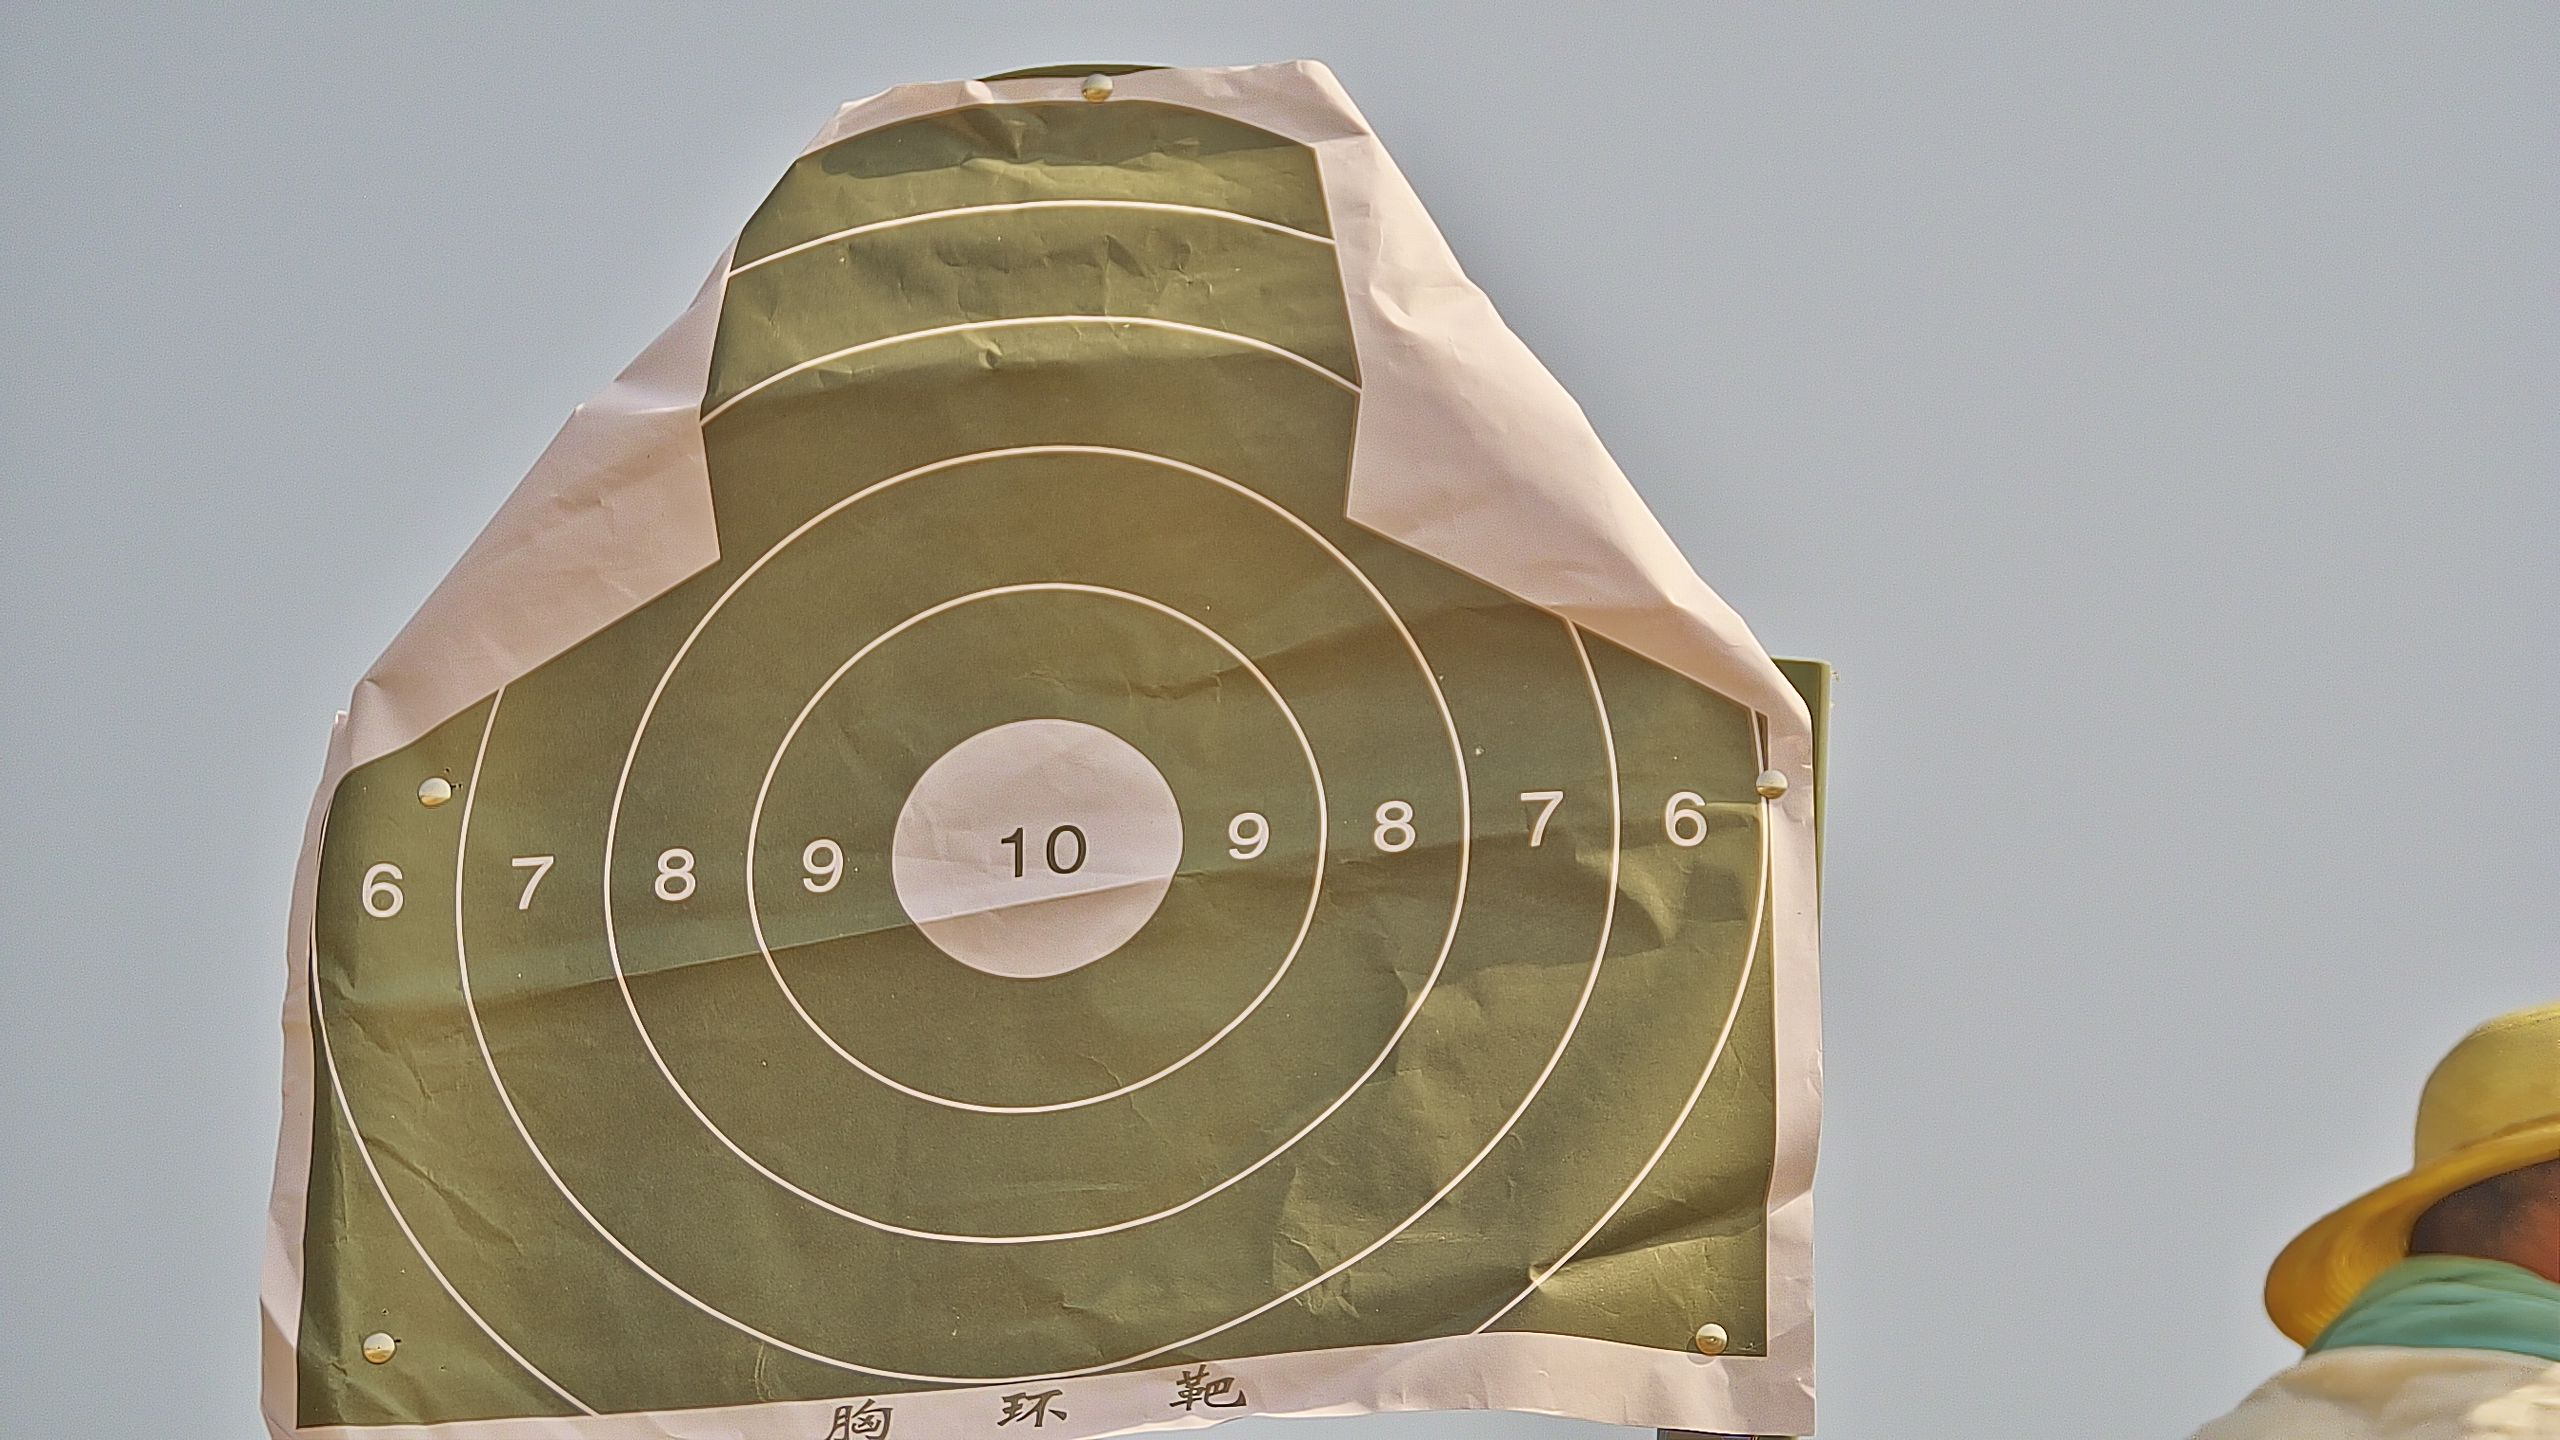kernel: (1029, 851, 1032, 855)
target: (290, 97, 1781, 1438)
ten: (888, 716, 1183, 979)
